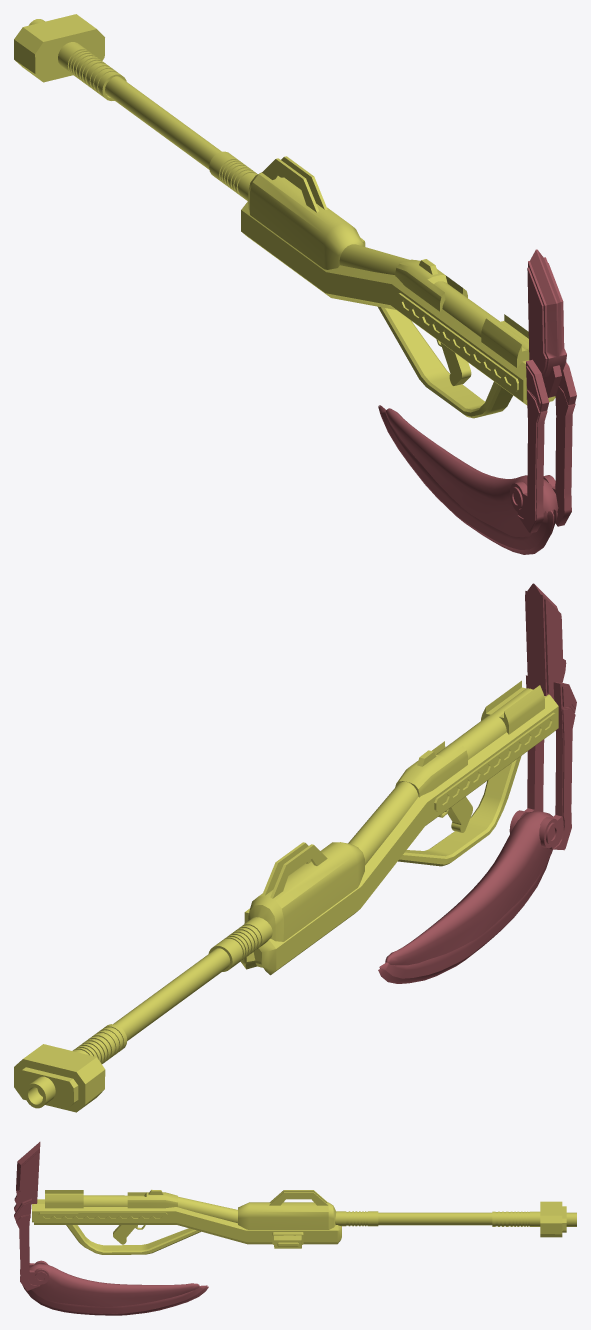
Rendered from alabarda-sniper.fbx.
3 views of the same model, one above another, from view 1: azimuth 30°, elevation 25°; view 2: azimuth 150°, elevation 25°; view 3: azimuth 270°, elevation 25° (orthographic). The views are drawn at different scales.
Parts seen in each view (by area): view 1: mango, filo; view 2: mango, filo; view 3: mango, filo.
Part boxes in pixels (x1=…): mango: x1=14, y1=14, x2=555, y2=418; filo: x1=378, y1=249, x2=576, y2=554; mango: x1=14, y1=680, x2=558, y2=1112; filo: x1=378, y1=583, x2=576, y2=983; mango: x1=32, y1=1189, x2=576, y2=1254; filo: x1=14, y1=1142, x2=208, y2=1315.
Bounding box in the file's own units: 2.4 × 8.74 × 25.53.
